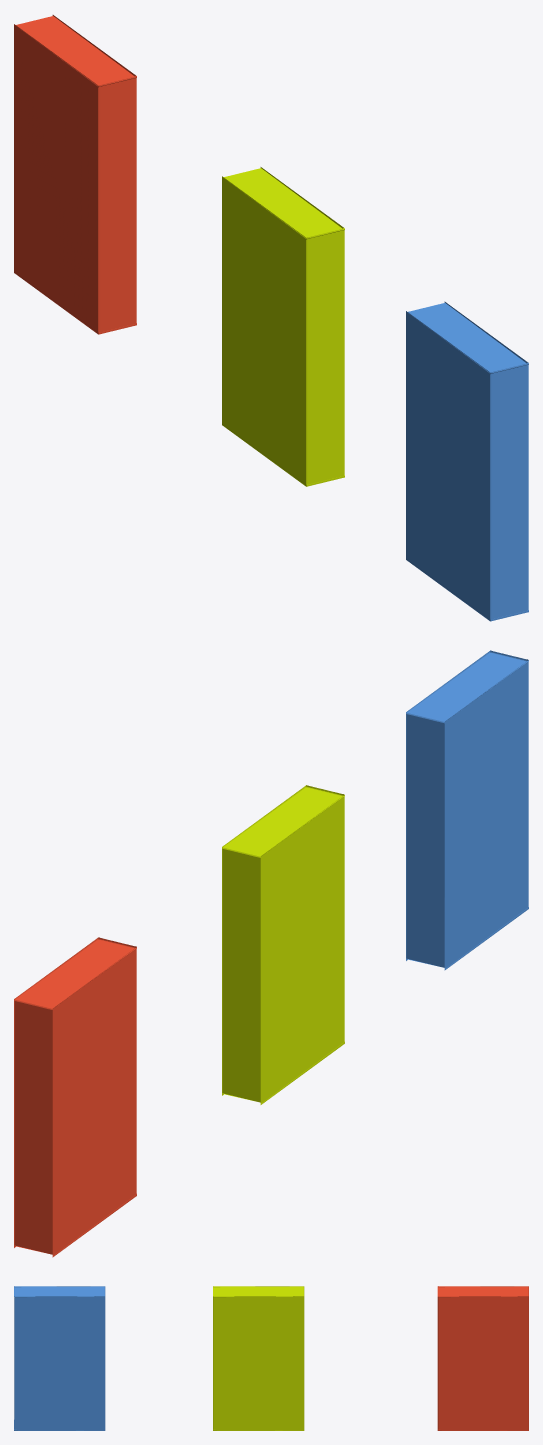
Rendered from zzz-tapes.glb.
3 views of the same model, one above another, from view 1: azimuth 30°, elevation 25°; view 2: azimuth 150°, elevation 25°; view 3: azimuth 270°, elevation 25° (orthographic). The views are drawn at different scales.
Visible parts, largest first — view 1: Cube.005, Cube.004, Cube.003; view 2: Cube.005, Cube.004, Cube.003; view 3: Cube.005, Cube.004, Cube.003.
Boxes of the visible parts, box(x1,y1,x2,y2) form: Cube.005: box(14, 15, 136, 334); Cube.004: box(222, 167, 344, 486); Cube.003: box(406, 301, 528, 621); Cube.005: box(14, 937, 136, 1257); Cube.004: box(222, 785, 344, 1104); Cube.003: box(406, 650, 528, 970); Cube.005: box(437, 1286, 528, 1430); Cube.004: box(213, 1286, 304, 1430); Cube.003: box(14, 1286, 105, 1430).
Bounding box in the file's own units: 0.0251 × 0.1545 × 0.5345.
